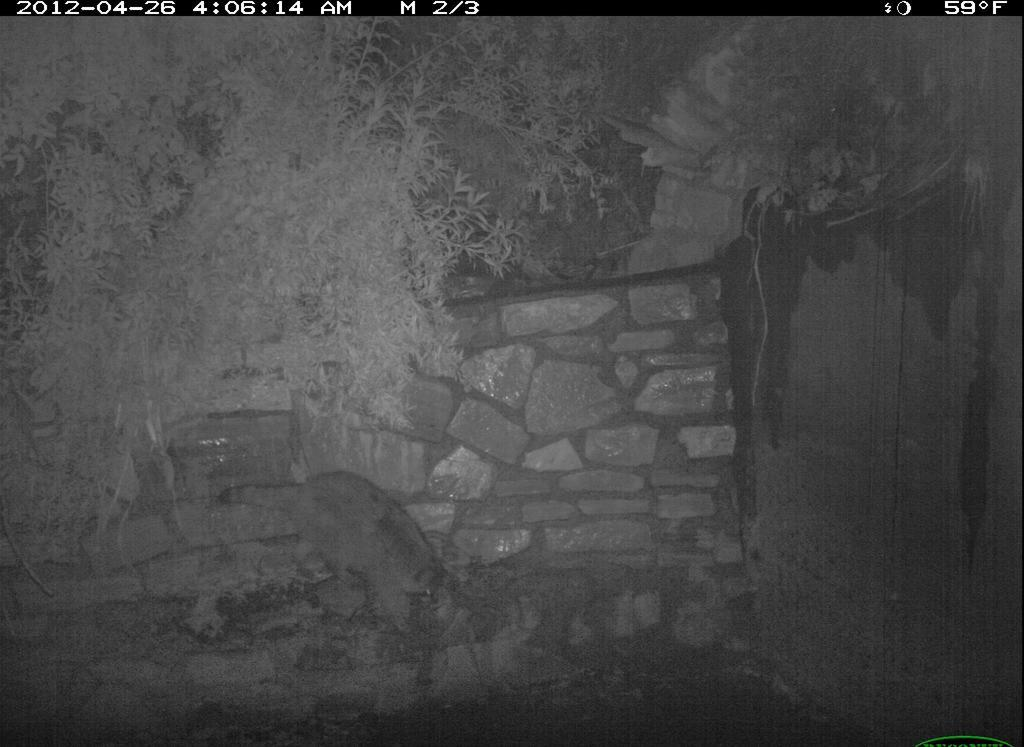raccoon: (211, 462, 456, 640)
